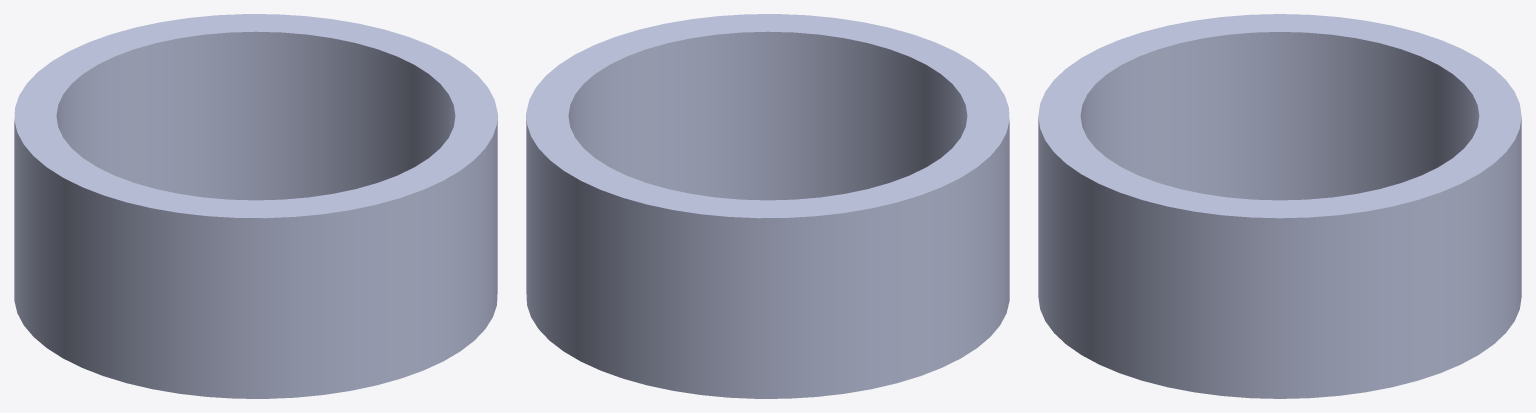
Rendered from Ring.fbx.
The picture shows the model from 3 angles, left to right: view 1: azimuth 30°, elevation 25°; view 2: azimuth 150°, elevation 25°; view 3: azimuth 270°, elevation 25°; orthographic projection.
Parts seen in each view (by area): view 1: Ring; view 2: Ring; view 3: Ring.
Boxes of the visible parts, box(x1,y1,x2,y2) form: Ring: box(14, 14, 497, 398); Ring: box(526, 14, 1009, 398); Ring: box(1038, 14, 1521, 398).
Bounding box in the file's own units: 21.92 × 9.04 × 21.92.
